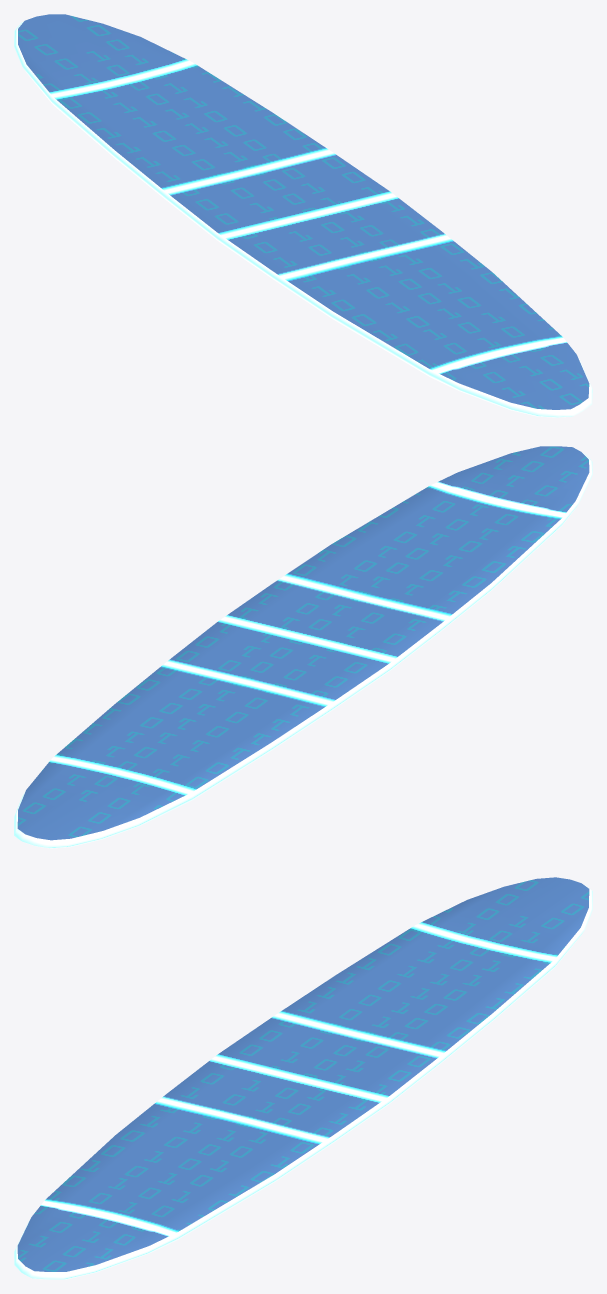
The model's file is Board.fbx.
3 renders of one model, top to bottom at view 1: azimuth 30°, elevation 25°; view 2: azimuth 150°, elevation 25°; view 3: azimuth 330°, elevation 25°, orthographic.
Visible parts, largest first — view 1: Board2; view 2: Board2; view 3: Board2.
Part boxes in pixels (left/top/right/bottom): Board2: left=14, top=14, right=592, bottom=417; Board2: left=14, top=446, right=592, bottom=848; Board2: left=14, top=877, right=592, bottom=1279.
Bounding box in the file's own units: 57.26 × 2.63 × 309.
